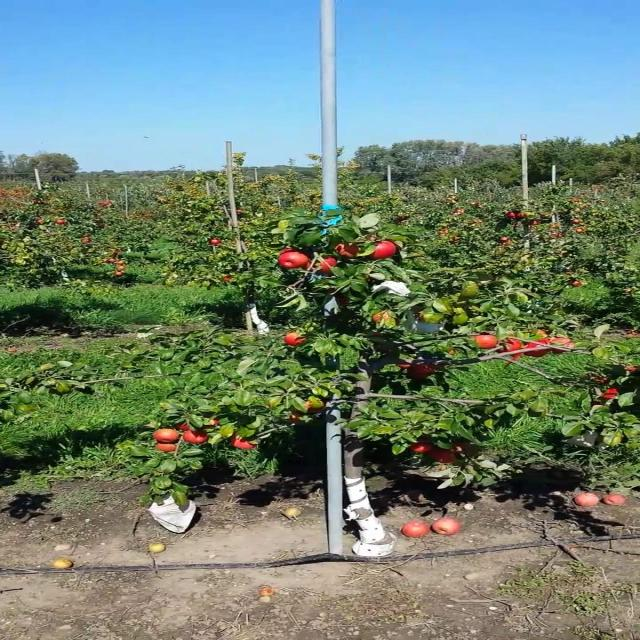apple: (276, 252, 313, 269), (369, 244, 398, 260), (333, 244, 363, 259), (312, 260, 340, 274), (276, 248, 311, 259), (525, 340, 549, 356), (284, 332, 306, 347), (412, 364, 434, 379), (497, 340, 524, 352), (234, 436, 256, 450), (184, 432, 208, 444), (433, 452, 457, 464), (476, 336, 498, 349), (156, 428, 178, 440), (554, 340, 576, 352), (305, 400, 327, 412), (412, 444, 436, 454), (604, 388, 619, 400), (156, 444, 178, 452), (376, 312, 391, 323), (504, 352, 524, 360), (291, 412, 302, 424), (177, 424, 192, 432), (454, 444, 468, 451), (397, 364, 412, 369), (540, 332, 549, 337), (212, 420, 220, 425), (632, 368, 638, 372)
